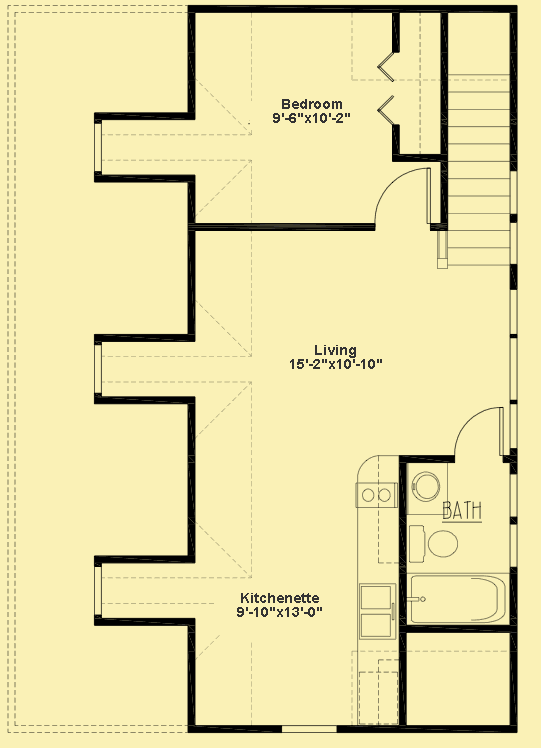door: (370, 165, 433, 228), (450, 405, 505, 465)
large_sink: (407, 520, 462, 568)
small_sink: (405, 461, 450, 518)
stairs: (444, 69, 514, 270)
tub: (406, 572, 514, 628)
twin_sink: (353, 580, 398, 641)
window: (88, 340, 106, 399), (90, 119, 107, 174), (90, 561, 106, 617)
